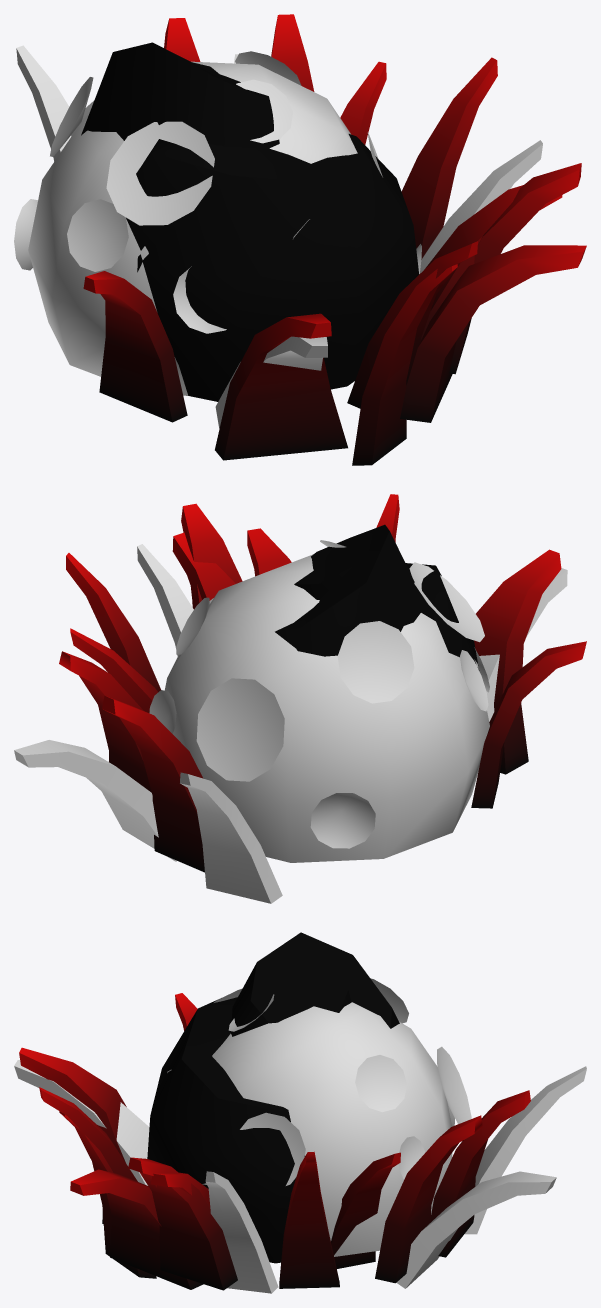
The model's file is Grass.fbx.
3 views of the same model, one above another, from view 1: azimuth 30°, elevation 25°; view 2: azimuth 150°, elevation 25°; view 3: azimuth 270°, elevation 25° (orthographic). The views are drawn at different scales.
Visible parts, largest first — view 1: MOD_Bush2, MOD_Bush4, MOD_Bush1, MOD_Bush3; view 2: MOD_Bush4, MOD_Bush2, MOD_Bush3, MOD_Bush1; view 3: MOD_Bush4, MOD_Bush2, MOD_Bush3, MOD_Bush1.
Boxes of the visible parts, bbox=[...] form: MOD_Bush2: bbox=[81, 14, 586, 460]; MOD_Bush4: bbox=[14, 45, 542, 428]; MOD_Bush1: bbox=[83, 163, 581, 422]; MOD_Bush3: bbox=[164, 18, 562, 465]; MOD_Bush4: bbox=[14, 540, 567, 903]; MOD_Bush2: bbox=[59, 524, 561, 792]; MOD_Bush3: bbox=[70, 532, 235, 872]; MOD_Bush1: bbox=[181, 494, 586, 808]; MOD_Bush4: bbox=[14, 978, 586, 1293]; MOD_Bush2: bbox=[19, 932, 482, 1289]; MOD_Bush3: bbox=[59, 1090, 530, 1278]; MOD_Bush1: bbox=[39, 993, 237, 1290].
Bounding box in the file's own units: 146 × 186 × 104.
